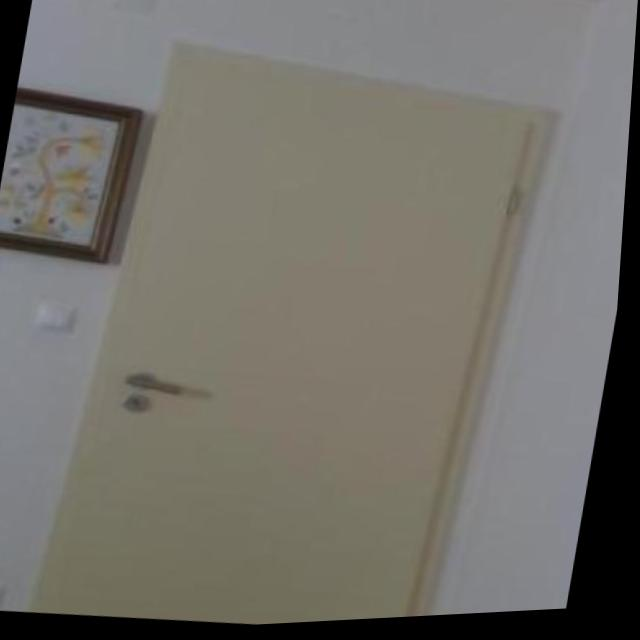door_handle: (114, 362, 196, 407)
